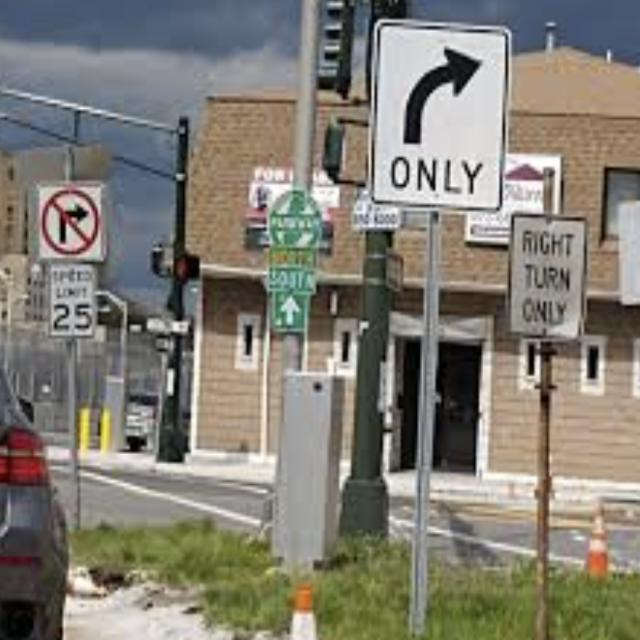speedLimit25: (50, 262, 95, 338)
